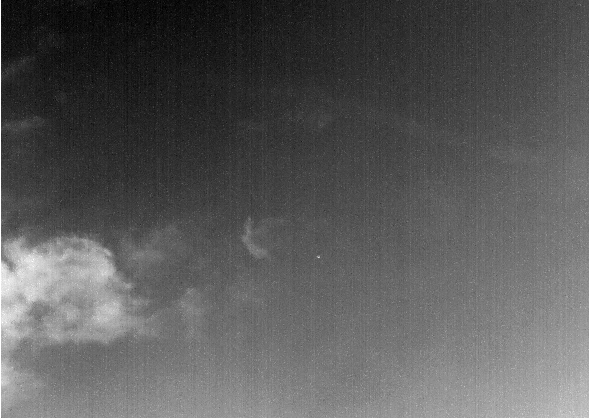dim target: (316, 255, 321, 260)
